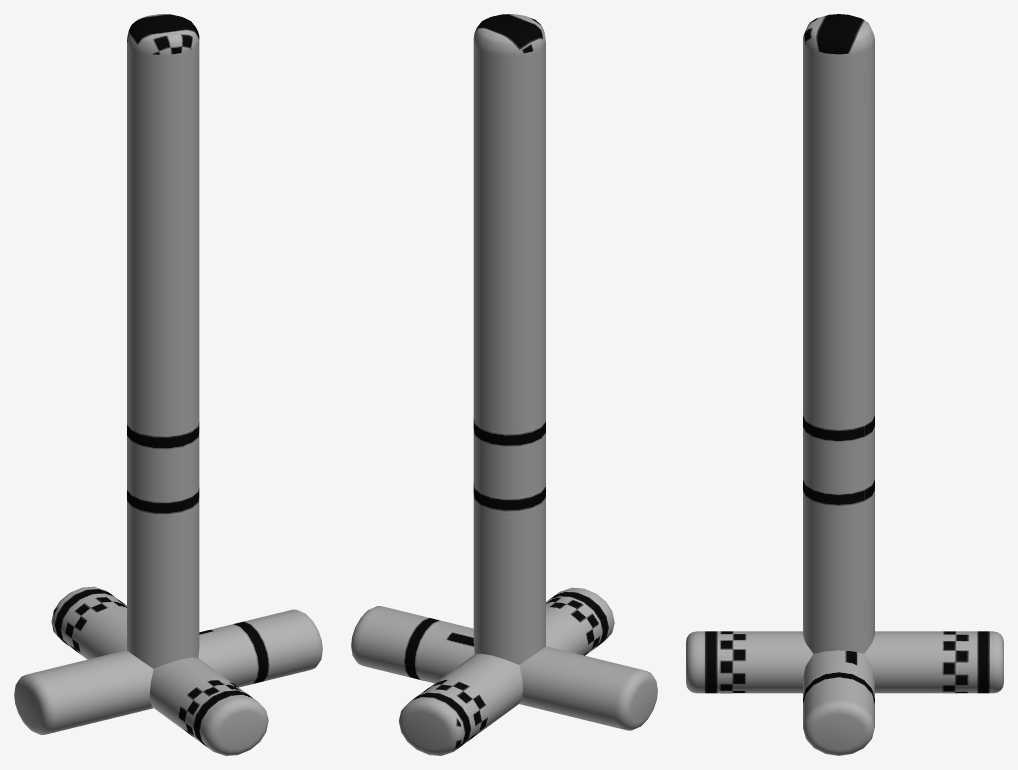
The model's file is ggfpylon.glb.
3 renders of one model, left to right at view 1: azimuth 30°, elevation 25°; view 2: azimuth 150°, elevation 25°; view 3: azimuth 270°, elevation 25°, orthographic.
Parts seen in each view (by area): view 1: GGFPylon; view 2: GGFPylon; view 3: GGFPylon.
Boxes of the visible parts, left/top/right/bottom form: GGFPylon: left=14, top=14, right=322, bottom=755; GGFPylon: left=351, top=14, right=657, bottom=755; GGFPylon: left=686, top=14, right=1003, bottom=755.
Size of the model in its own units: 1.47 by 3.4 by 1.47.
Materials: 1 (1 with a texture image).
